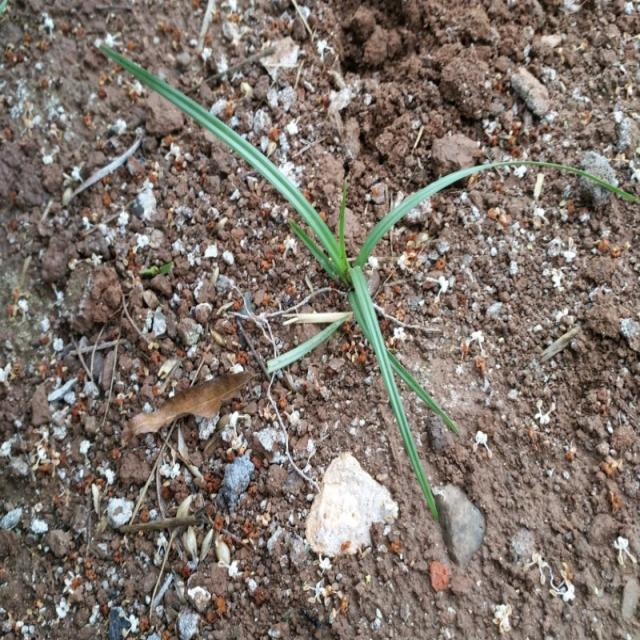sedge: (106, 46, 515, 549)
